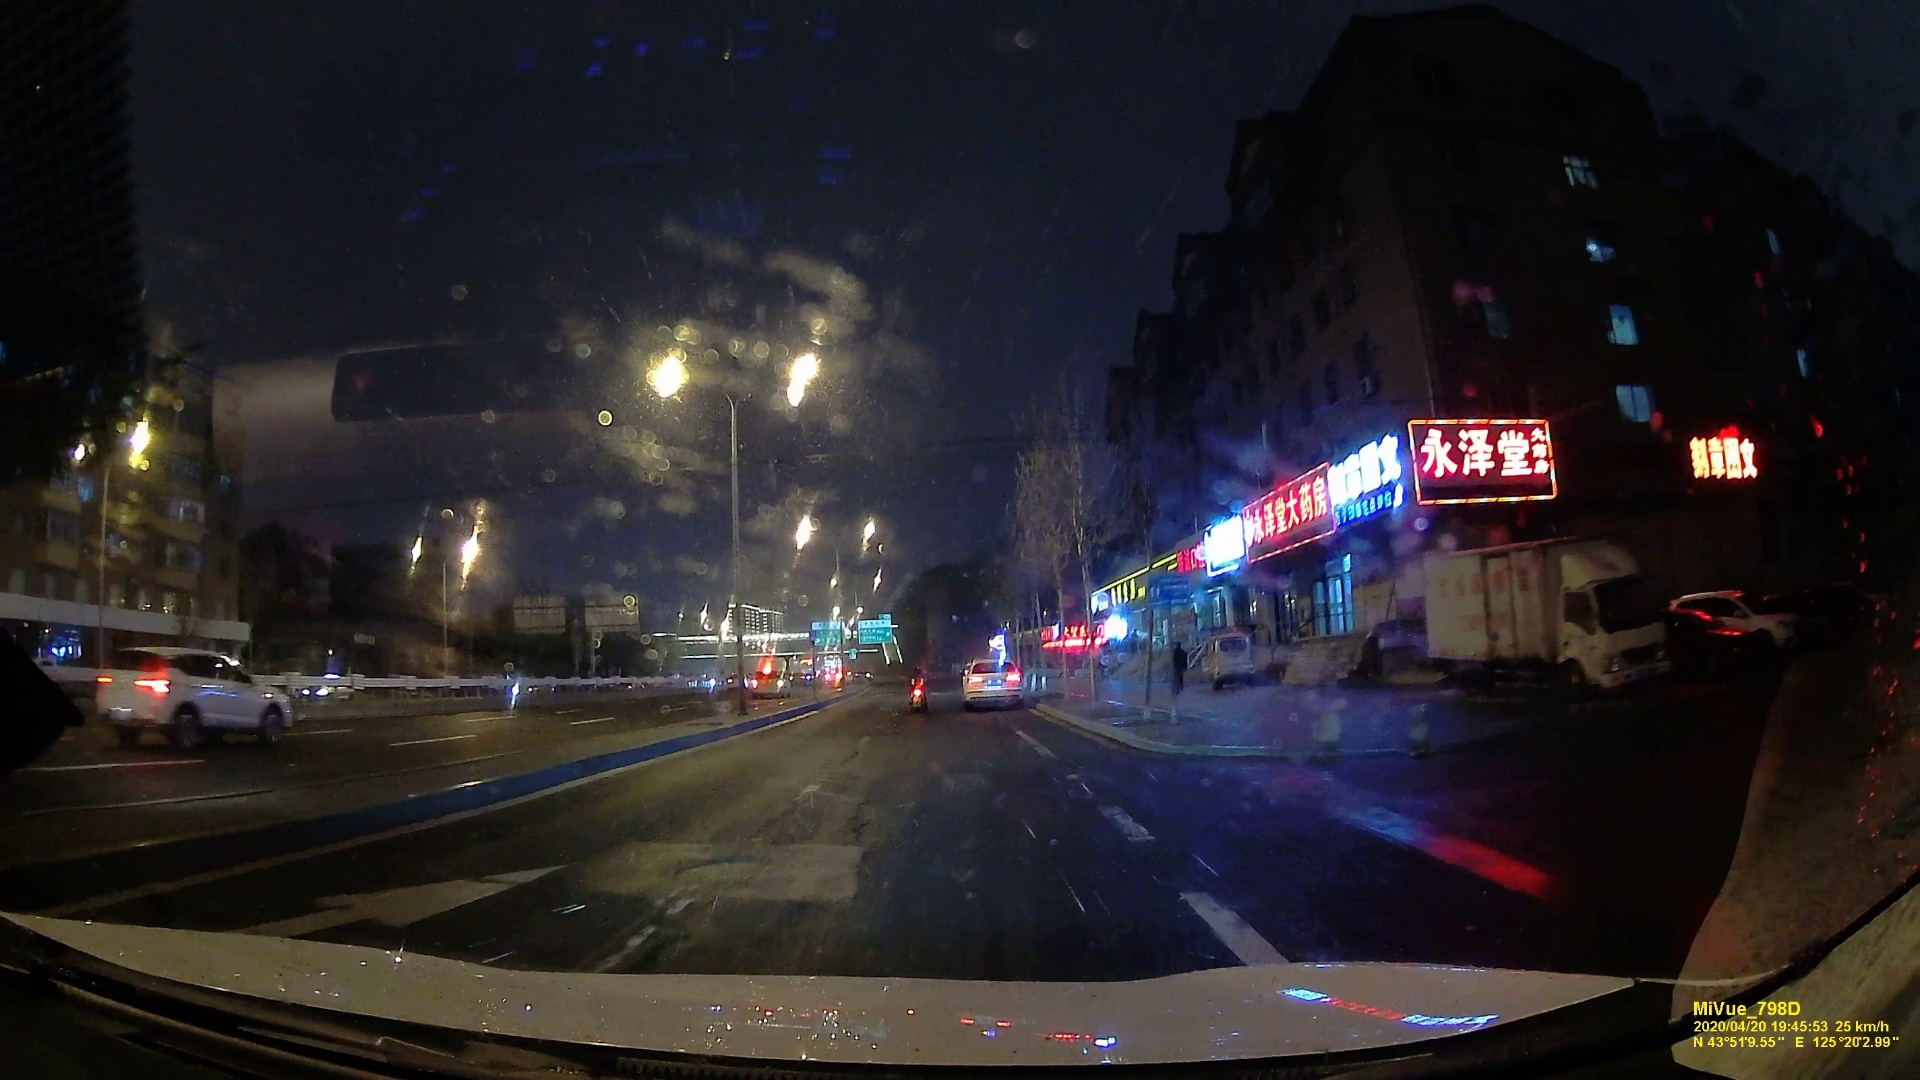person: (1168, 644, 1188, 692), (908, 665, 925, 694)
traffic_sign: (857, 619, 891, 643), (811, 621, 843, 646)
truck: (1418, 541, 1668, 694)
vehicle: (84, 638, 287, 747), (1666, 588, 1810, 654), (960, 657, 1027, 707), (748, 669, 792, 700)
